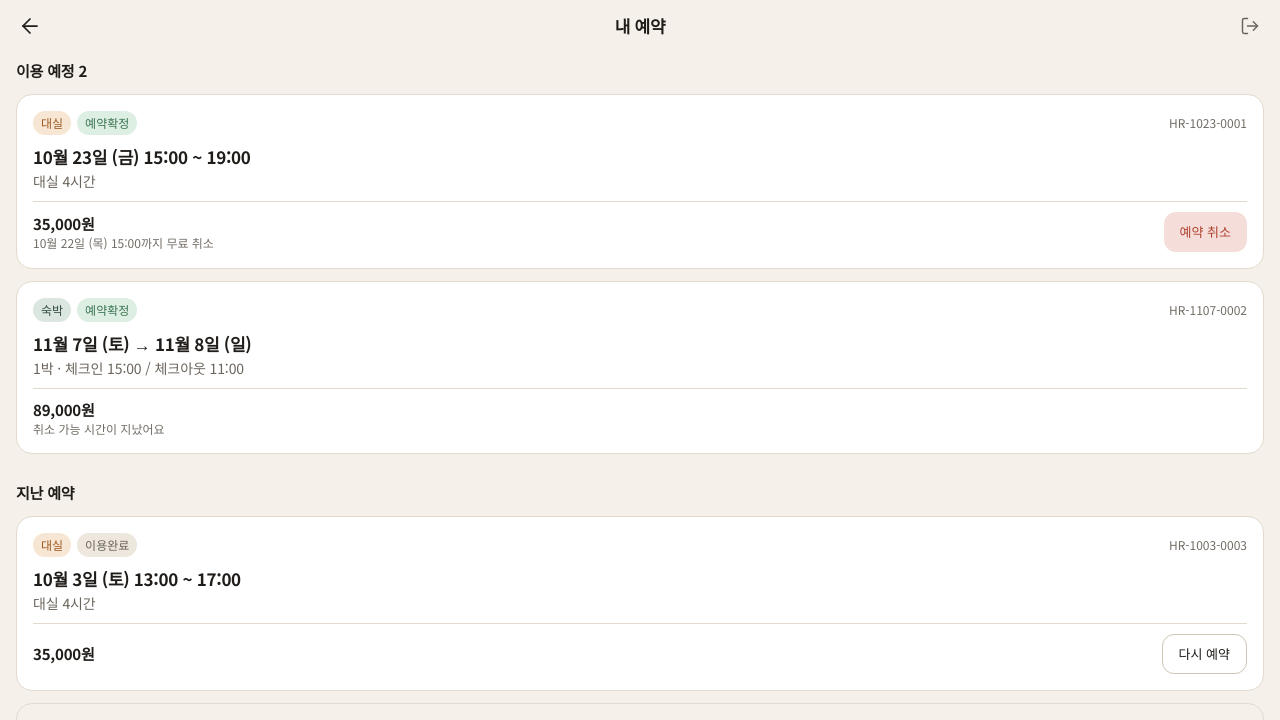
Test: MyReservationsScreen › cancels after confirmation and refetches
Click the button "예약 취소" at (1205, 232), box [1164,212,1247,252]
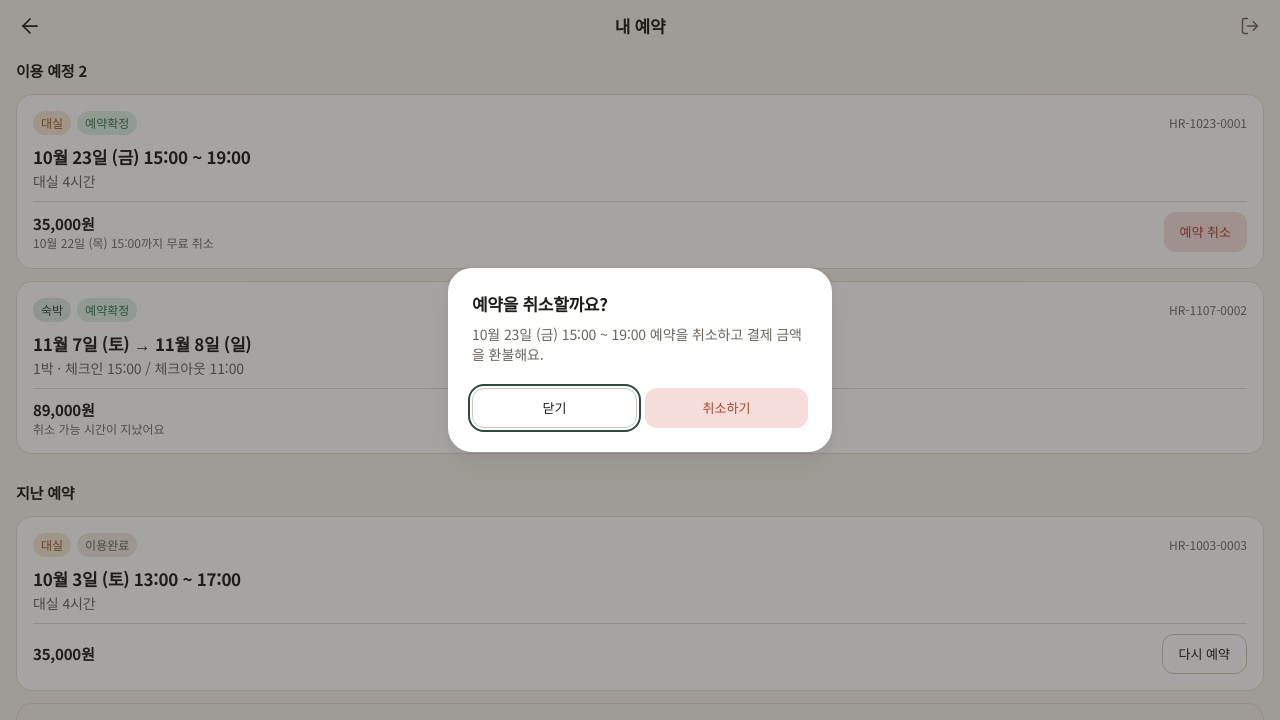
Click the button "취소하기" at (726, 408), box [645,388,808,428]
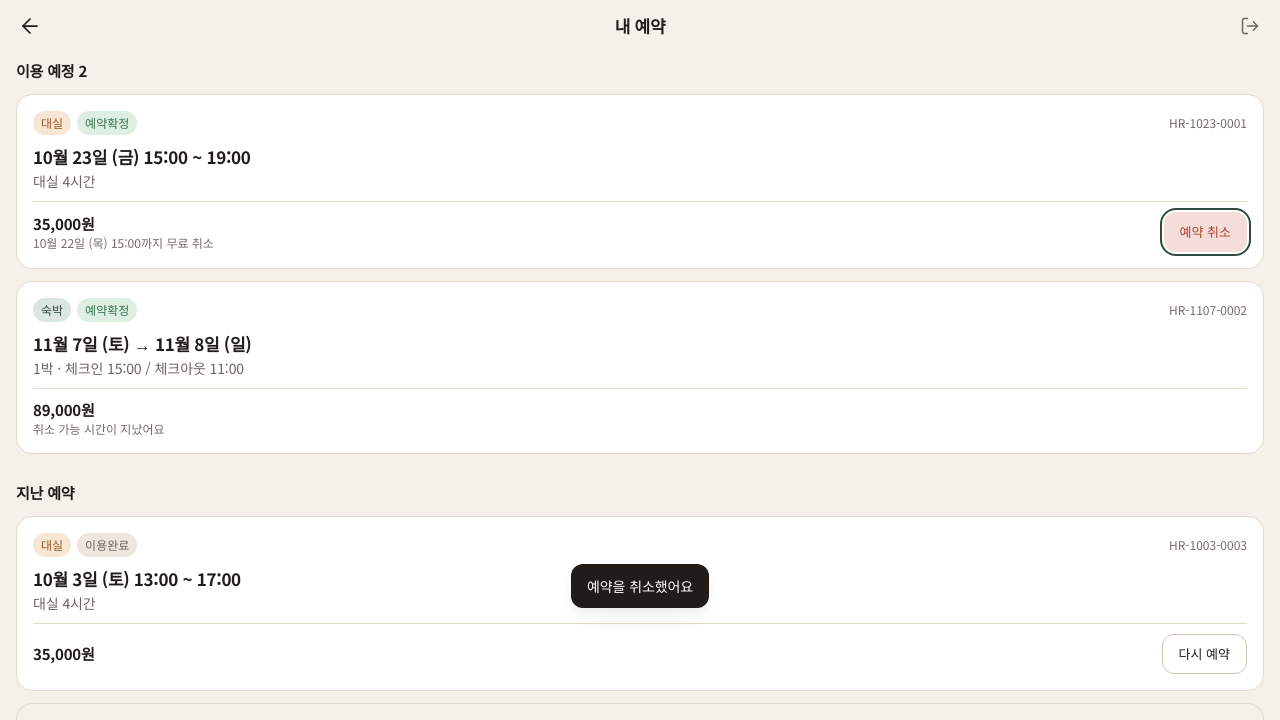
Now the text "예약을 취소했어요" is shown, box [571,564,709,608]
